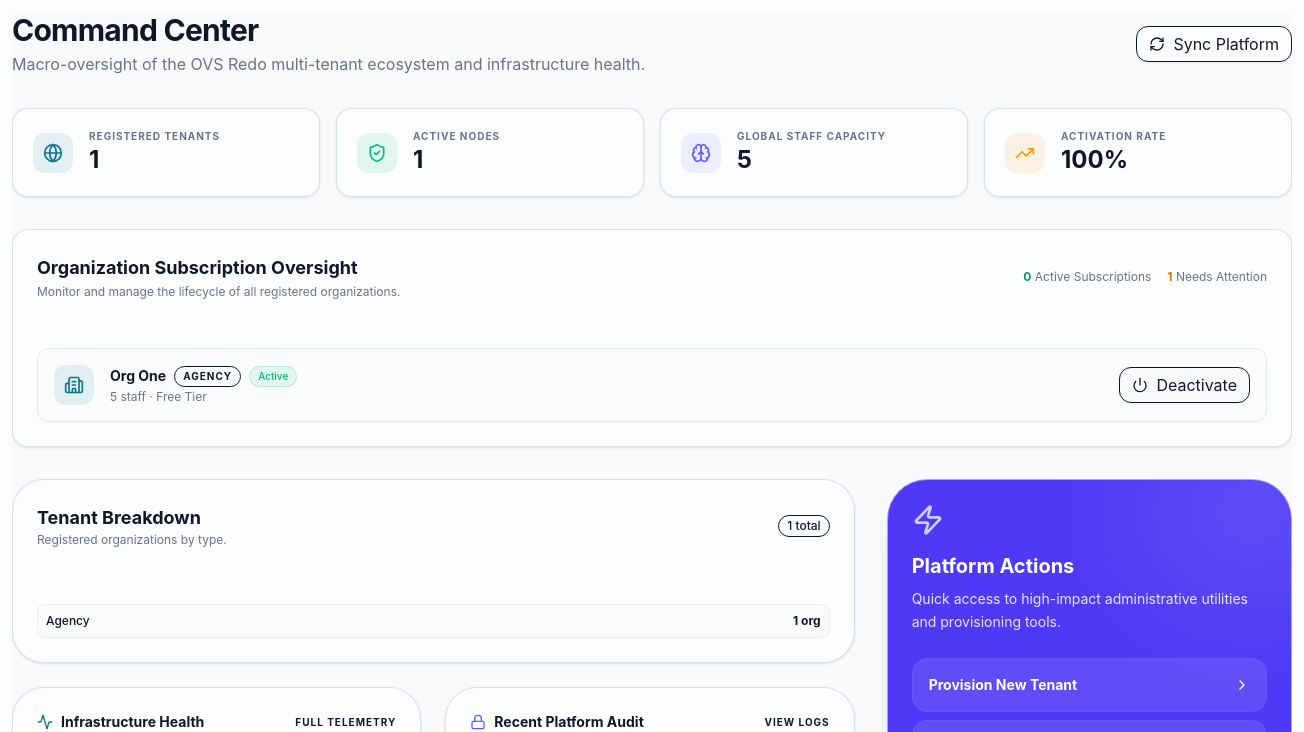
PlatformDashboardPage › toggles organization active status
Click the button with aria-label "deactivate organization".
click(1185, 385)  # box [1119, 367, 1250, 403]
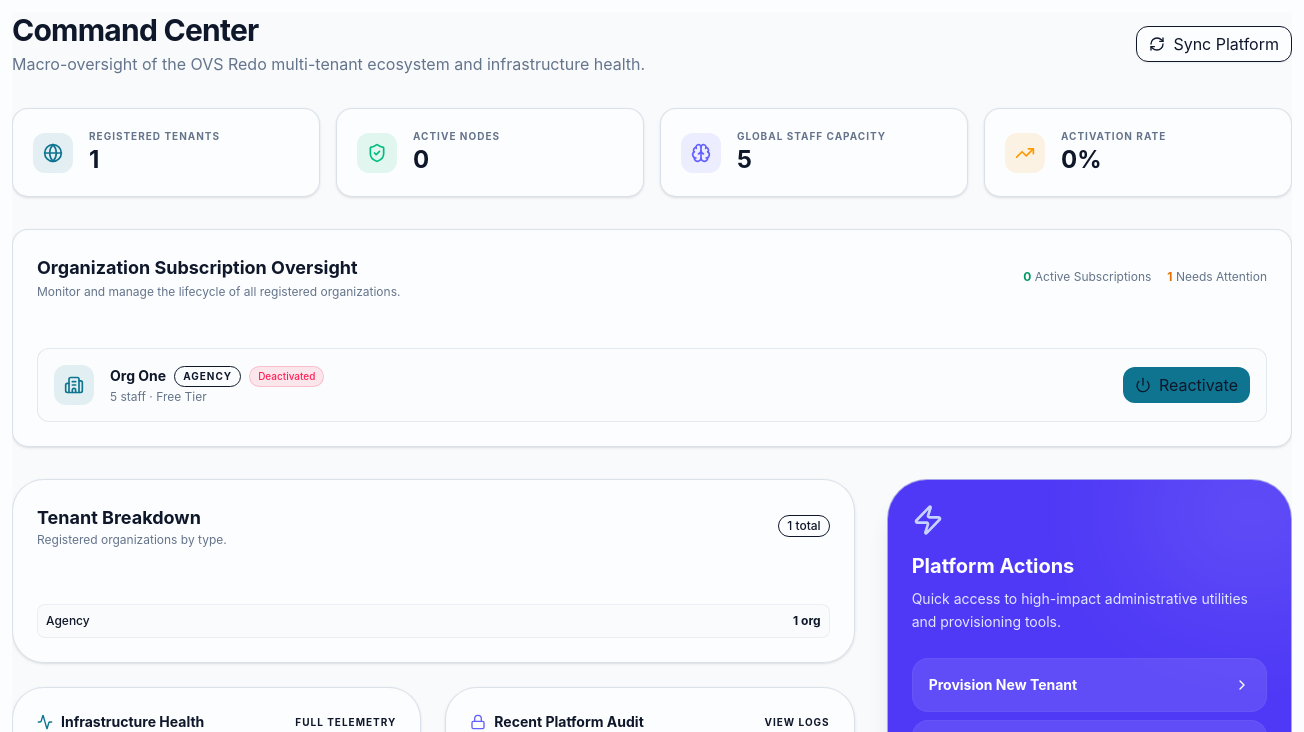
Result: the button with aria-label "reactivate organization" is shown at [1123, 367, 1250, 403]
